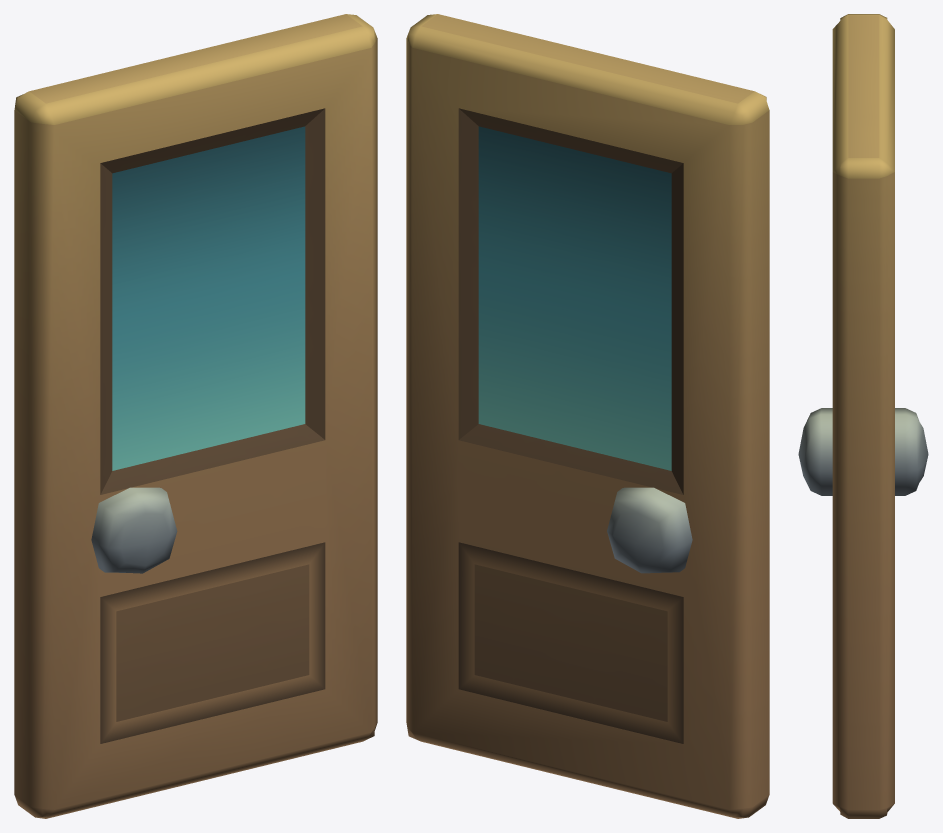
File: door_appartment_wood_LOD_setup.fbx
3 renders of one model, left to right at view 1: azimuth 30°, elevation 25°; view 2: azimuth 150°, elevation 25°; view 3: azimuth 270°, elevation 25°, orthographic. The views are drawn at different scales.
Visible parts, largest first — view 1: door_appartment_wood_LOD0; view 2: door_appartment_wood_LOD0; view 3: door_appartment_wood_LOD0.
Part boxes in pixels (bbox=[...]): door_appartment_wood_LOD0: bbox=[14, 14, 377, 818]; door_appartment_wood_LOD0: bbox=[406, 14, 769, 818]; door_appartment_wood_LOD0: bbox=[798, 14, 928, 818].
Size of what is drawn, in the model's own units: 104 by 206 by 36.84.
